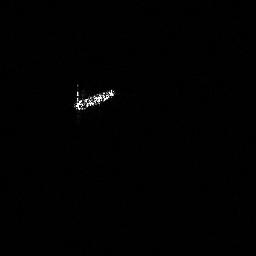ship: (70, 82, 118, 113)
